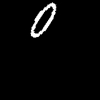chain: (31, 3, 55, 36)
